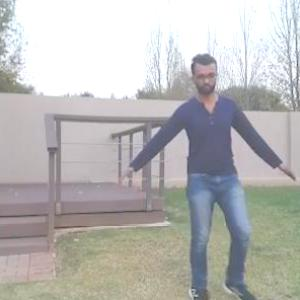land: (146, 69, 276, 292)
